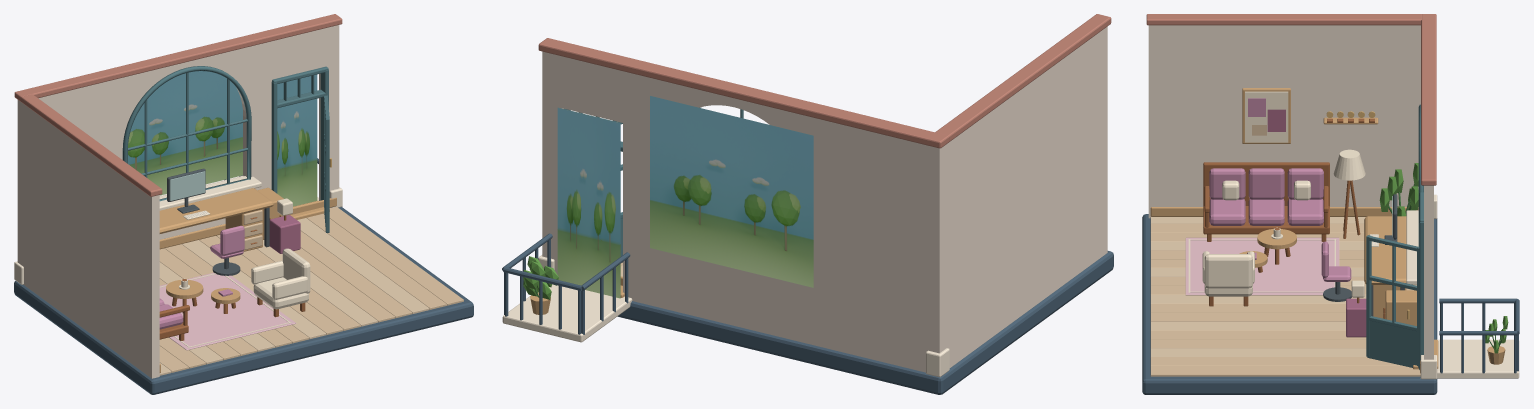
Rendered from home-v5.glb.
The picture shows the model from 3 angles, left to right: view 1: azimuth 30°, elevation 25°; view 2: azimuth 150°, elevation 25°; view 3: azimuth 270°, elevation 25°; orthographic projection. The views are drawn at different scales.
Parts seen in each view (by area): view 1: Room_wall, Room_Nature rendered backdrop, Room_floor, Room_navy, Room_teal, Room_brick, Room_floor2, Room_oak, Room_rug, Room_cream, Room_trim, Room_pink (+4 smaller); view 2: Room_wall, Room_Nature rendered backdrop, Room_navy, Room_brick, Room_trim, Room_leaf; view 3: Room_wall, Room_floor, Room_navy, Room_floor2, Room_pink, Room_oak, Room_cream, Room_brick, Room_rug, Room_teal, Room_wood, Room_trim (+3 smaller).
Part boxes in pixels (x1,y1,x2,y2): Room_wall: [17, 25, 339, 378]; Room_Nature rendered backdrop: [128, 71, 317, 206]; Room_floor: [159, 207, 463, 372]; Room_navy: [14, 158, 473, 394]; Room_teal: [122, 66, 329, 233]; Room_brick: [14, 14, 342, 196]; Room_floor2: [159, 218, 429, 375]; Room_oak: [159, 187, 336, 372]; Room_rug: [159, 272, 296, 350]; Room_cream: [159, 198, 310, 347]; Room_trim: [14, 176, 342, 284]; Room_pink: [159, 225, 244, 329]; Room_wall: [542, 26, 1107, 372]; Room_Nature rendered backdrop: [557, 96, 813, 298]; Room_navy: [502, 233, 1113, 394]; Room_brick: [538, 14, 1111, 148]; Room_trim: [502, 255, 949, 377]; Room_leaf: [523, 256, 558, 299]; Room_wall: [1148, 25, 1433, 359]; Room_floor: [1150, 125, 1420, 376]; Room_navy: [1142, 214, 1519, 394]; Room_floor2: [1150, 217, 1366, 356]; Room_pink: [1209, 98, 1351, 281]; Room_oak: [1150, 88, 1505, 373]; Room_cream: [1188, 91, 1378, 297]; Room_brick: [1146, 14, 1436, 185]; Room_rug: [1185, 237, 1339, 295]; Room_teal: [1366, 104, 1423, 369]; Room_wood: [1203, 162, 1385, 318]; Room_trim: [1406, 194, 1519, 379].
Size of the model in its own units: 9.4 by 5.65 by 8.95.
Materials: 20 (1 with a texture image).
